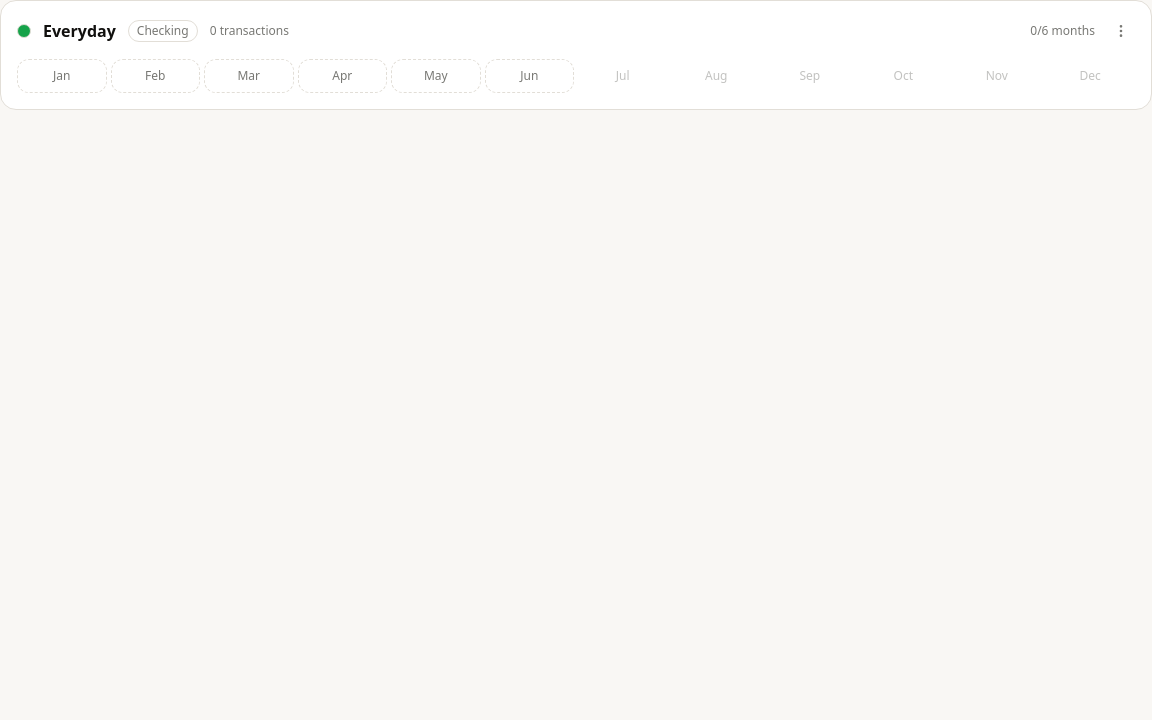
Test: AccountCard › keeps edit and delete behind the ··· menu
expect the text "Everyday" is shown: met, box [43,19,116,43]
expect the menu item "Edit Everyday" is not shown: met
Click the button named "More actions for Everyday": (1121, 31) [1107,17,1135,45]
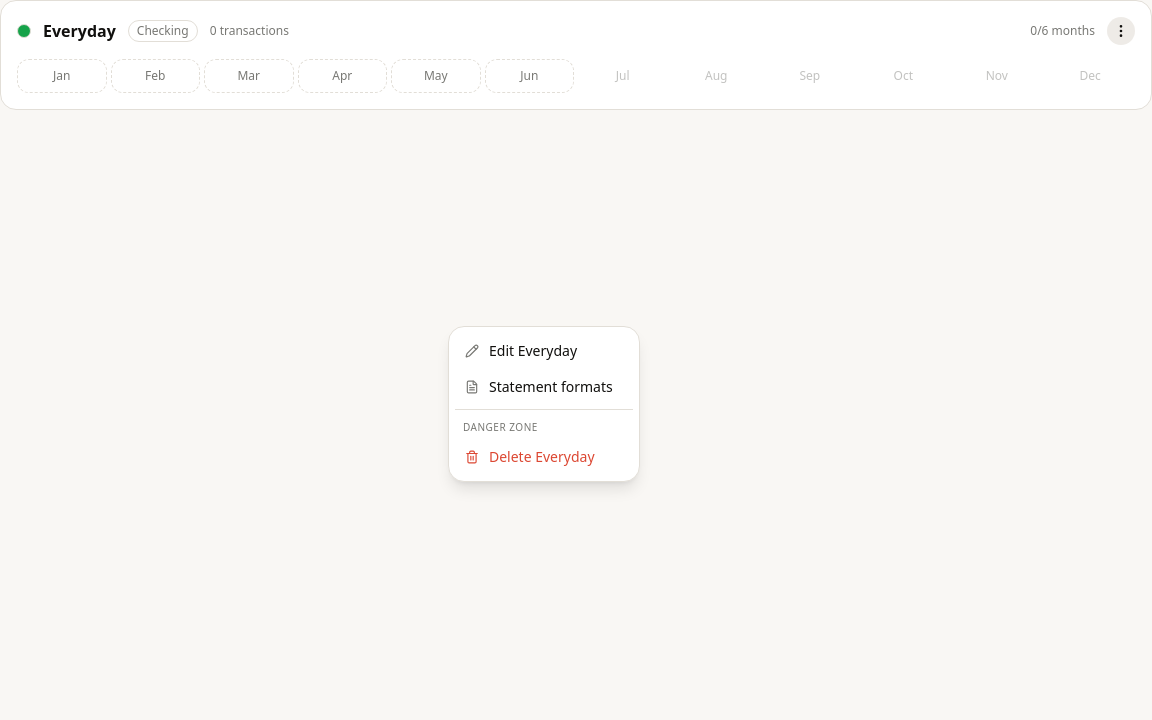
expect the menu item "Edit Everyday" is shown: met, box [465,341,577,360]
expect the menu item "Delete Everyday" is shown: met, box [465,447,594,466]
